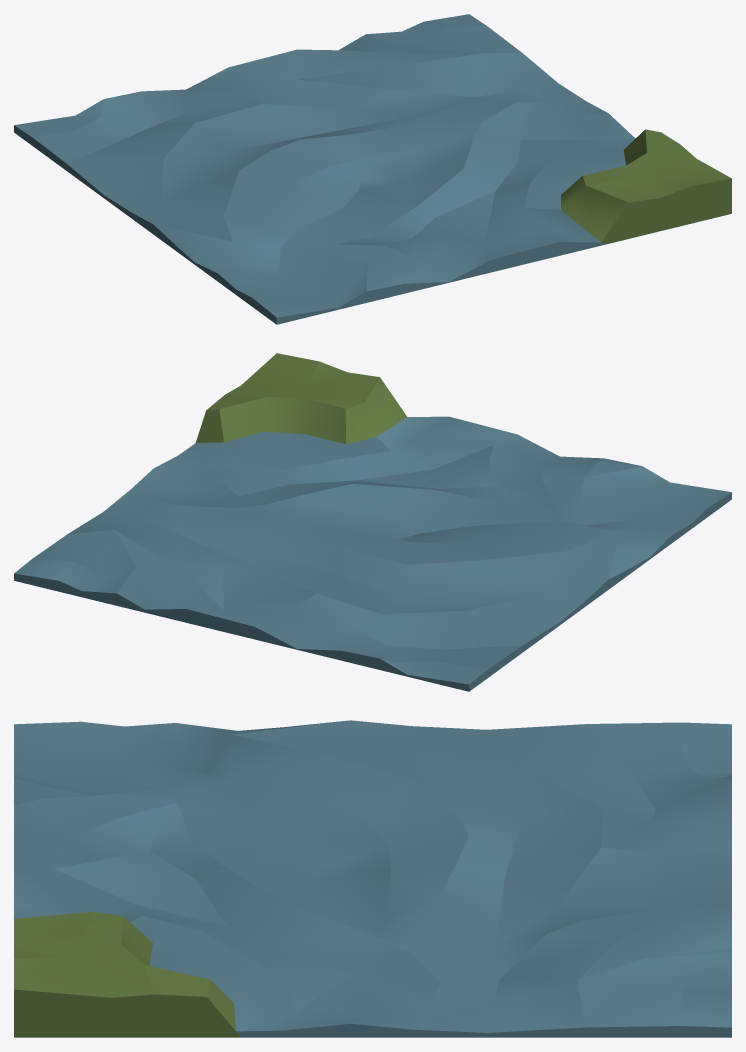
The model's file is Water_Corner_External_RB.glb.
The picture shows the model from 3 angles, top to bottom: view 1: azimuth 30°, elevation 25°; view 2: azimuth 150°, elevation 25°; view 3: azimuth 270°, elevation 25°; orthographic projection. The views are drawn at different scales.
Parts seen in each view (by area): view 1: Water_Corner_External_RB; view 2: Water_Corner_External_RB; view 3: Water_Corner_External_RB.
Part boxes in pixels (x1,y1,x2,y2): Water_Corner_External_RB: [14, 14, 731, 324]; Water_Corner_External_RB: [14, 353, 731, 691]; Water_Corner_External_RB: [14, 720, 731, 1037].
Bounding box in the file's own units: 1.47 × 0.1178 × 1.47.
